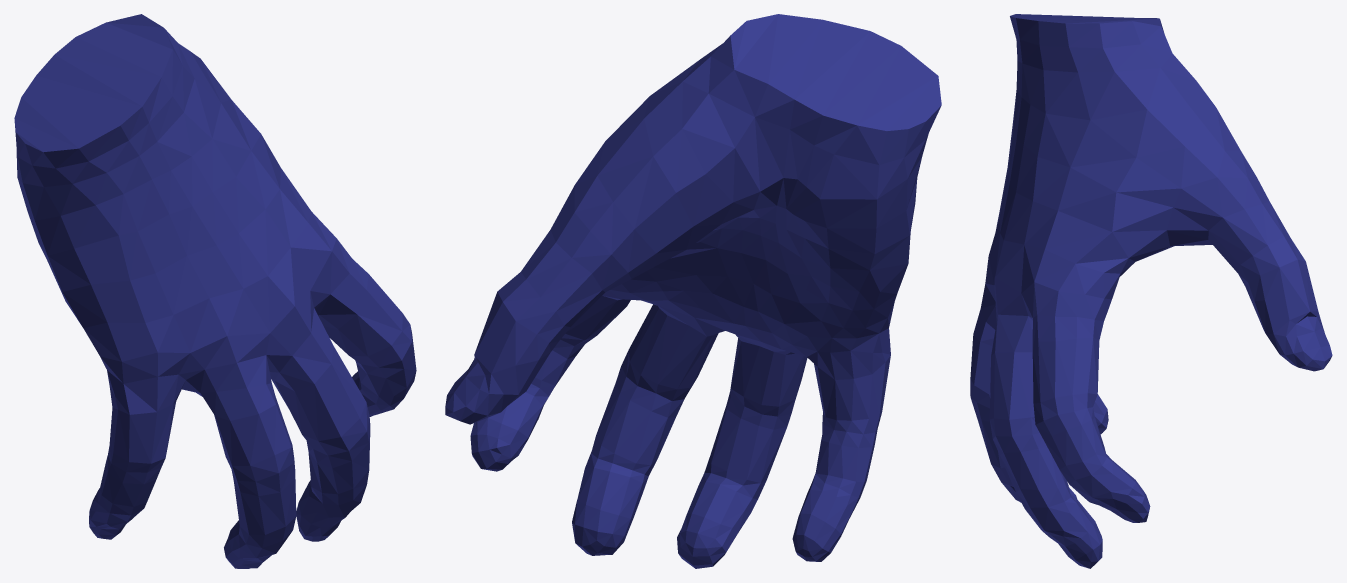
3 renders of one model, left to right at view 1: azimuth 30°, elevation 25°; view 2: azimuth 150°, elevation 25°; view 3: azimuth 270°, elevation 25°, orthographic. The views are drawn at different scales.
Size of the model in its own units: 0.1304 by 0.1716 by 0.117.
